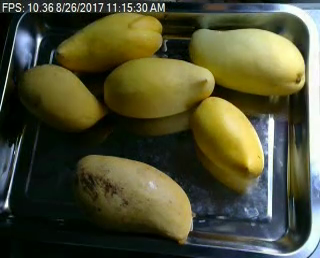Mango: (76, 155, 192, 243), (188, 28, 306, 94), (103, 58, 212, 115), (58, 11, 162, 68), (192, 97, 264, 179), (16, 65, 107, 128)
